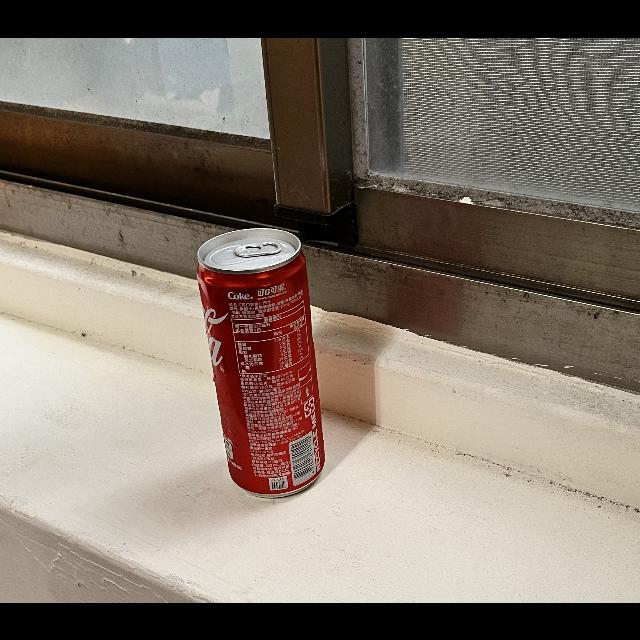can: (192, 225, 334, 501)
